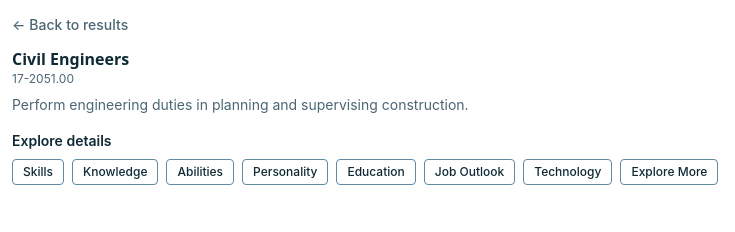
Test case: CareerDetailView › renders an error state when a section fails to load
The image size is (735, 232).
Expected: the heading "Civil Engineers" is shown, [12,48,129,70]
What coordinates should you click on to do the following:
click the button "Education"
I would click on:
 (376, 172)
Its box is [336,159,416,185].
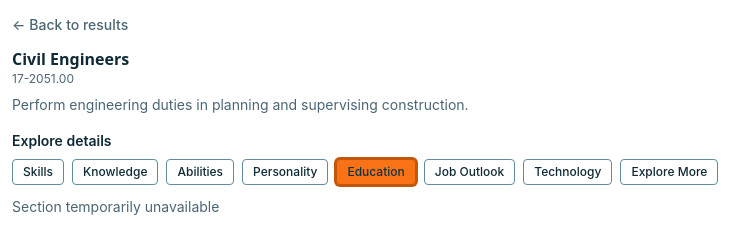
Result: the text "Section temporarily unavailable" is shown at [12,198,219,215]
